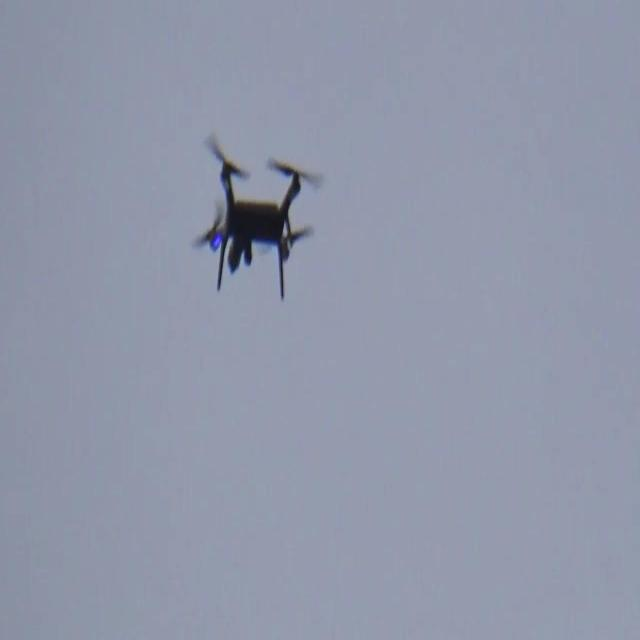drone: (199, 138, 321, 302)
